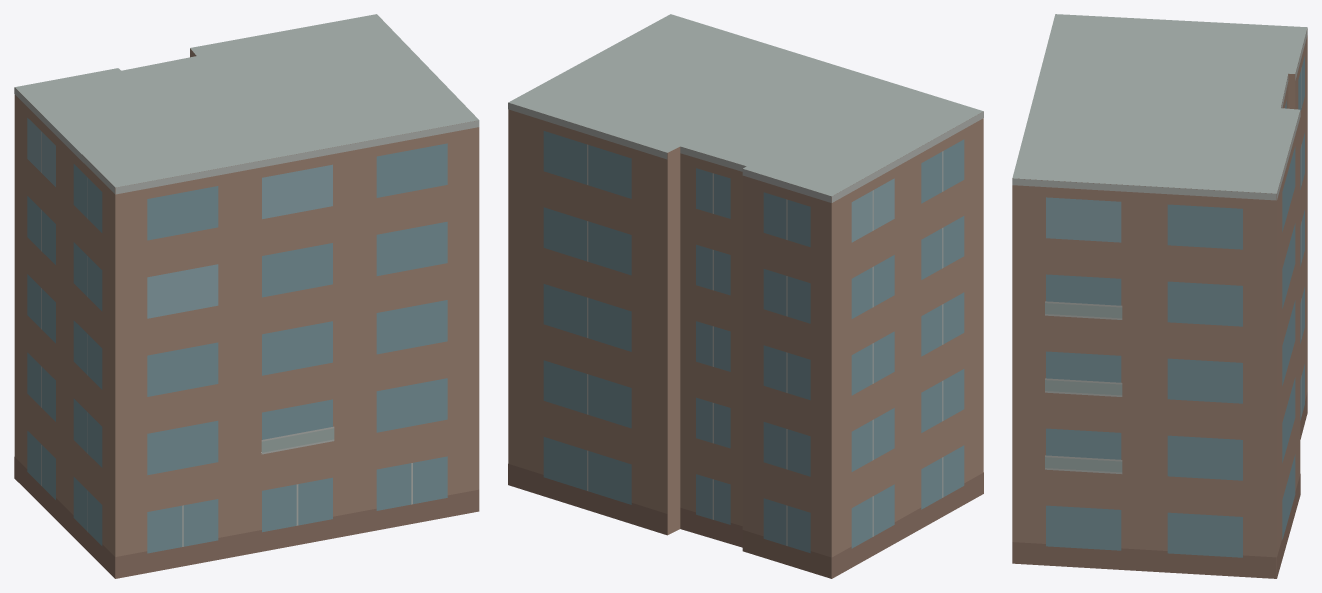
The model's file is survey-upis-32934956.glb.
The picture shows the model from 3 angles, left to right: view 1: azimuth 30°, elevation 25°; view 2: azimuth 150°, elevation 25°; view 3: azimuth 270°, elevation 25°; orthographic projection. The views are drawn at different scales.
Visible parts, largest first — view 1: survey-upis-32934956.tmp; view 2: survey-upis-32934956.tmp; view 3: survey-upis-32934956.tmp.
Part boxes in pixels (x1,y1,x2,y2): survey-upis-32934956.tmp: (14, 14, 479, 578); survey-upis-32934956.tmp: (508, 14, 983, 578); survey-upis-32934956.tmp: (1012, 14, 1307, 578).
Bounding box in the file's own units: 13.82 × 13.8 × 9.6.
